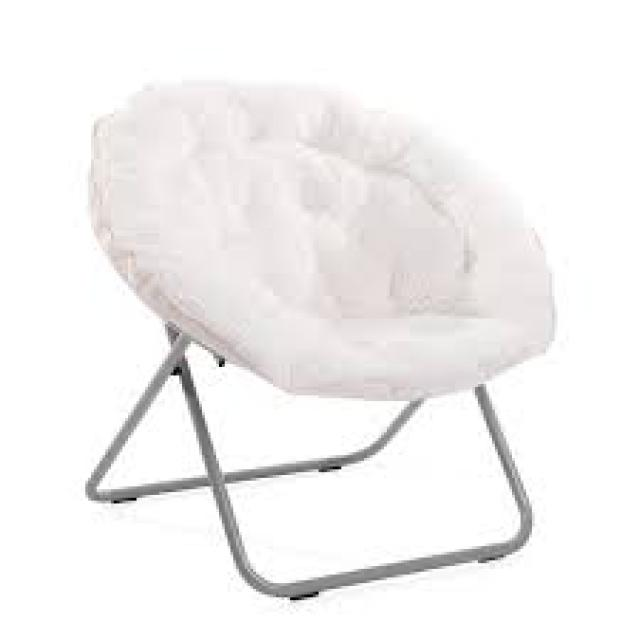chair: (29, 31, 606, 640)
